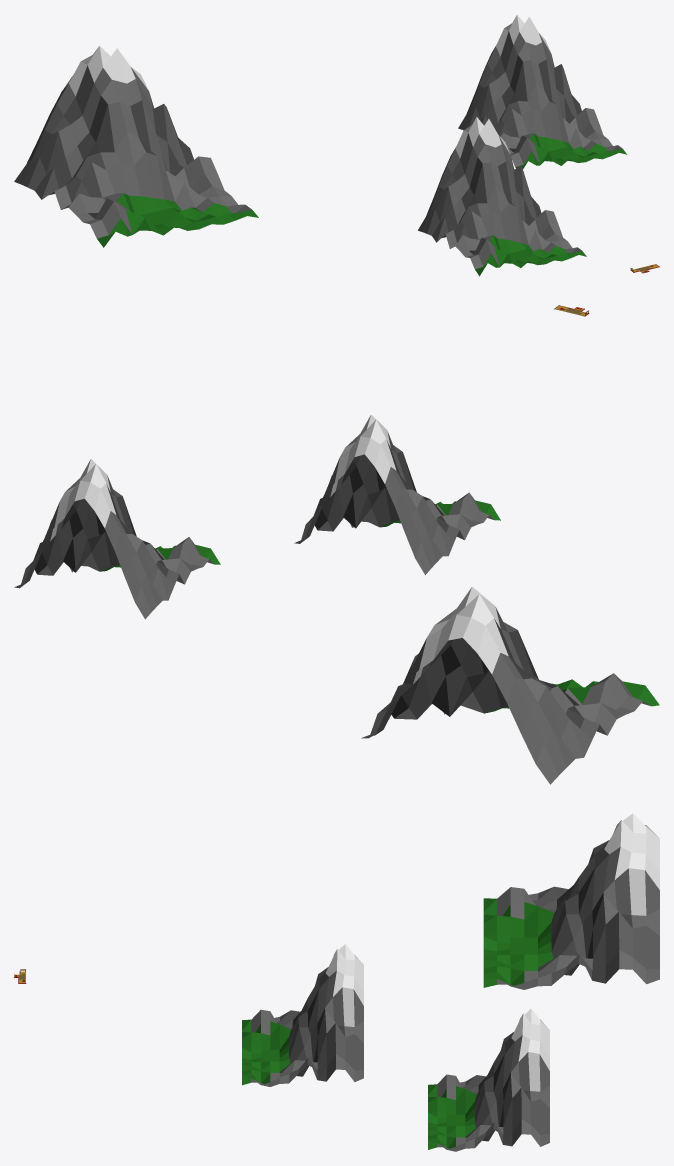
File: top_platform.fbx
3 renders of one model, top to bottom at view 1: azimuth 30°, elevation 25°; view 2: azimuth 150°, elevation 25°; view 3: azimuth 270°, elevation 25°, orthographic. The views are drawn at different scales.
Visible parts, largest first — view 1: Plane.002, Plane, Plane.001; view 2: Plane.002, Plane, Plane.001; view 3: Plane.002, Plane.001, Plane.
Part boxes in pixels (left/top/right/bottom): Plane.002: left=14, top=46, right=258, bottom=247; Plane: left=418, top=117, right=586, bottom=276; Plane.001: left=458, top=15, right=627, bottom=168; Plane.002: left=361, top=587, right=659, bottom=784; Plane: left=294, top=414, right=500, bottom=574; Plane.001: left=14, top=459, right=220, bottom=619; Plane.002: left=483, top=813, right=659, bottom=989; Plane.001: left=428, top=1008, right=549, bottom=1151; Plane: left=242, top=944, right=363, bottom=1086.
Bounding box in the file's own units: 63742 × 17881 × 73249.
